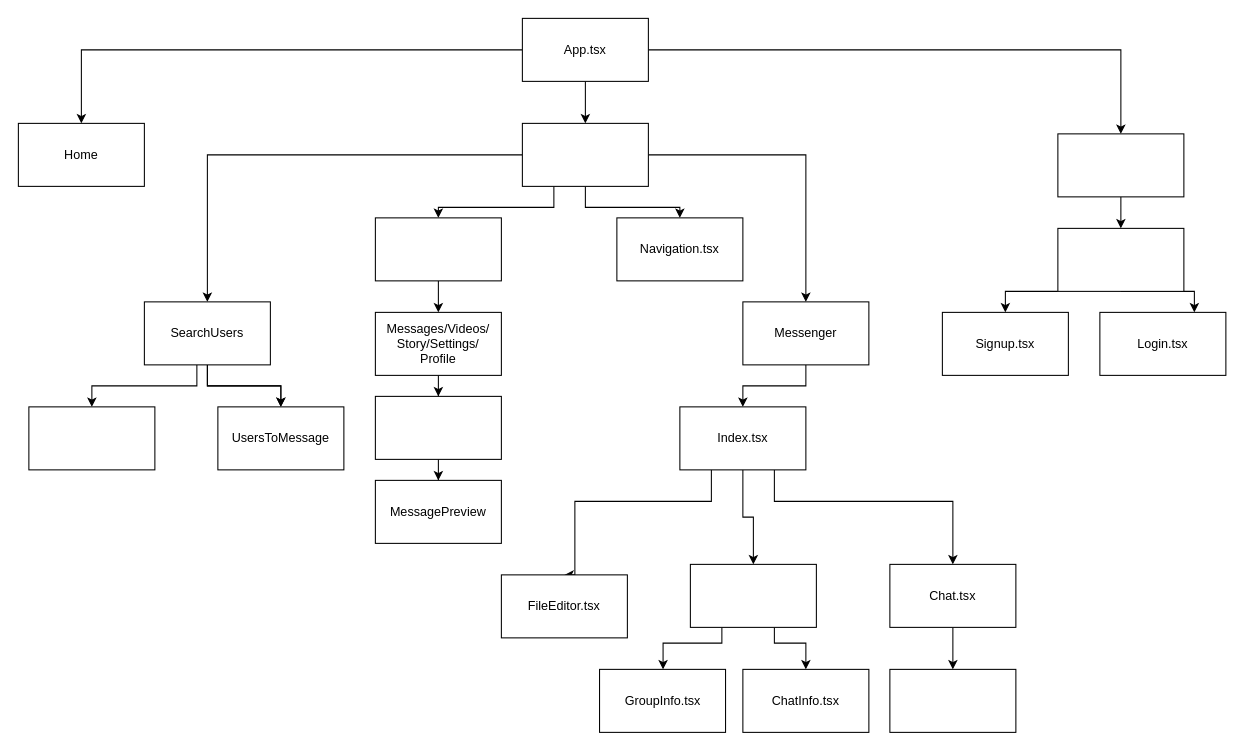
This 1244x751 diagram has some shape labels left out. Here are the shapes that lost their labels. From the top down, the box of each, then its label:
(521, 122, 648, 186): ChatPage.tsx
(1057, 133, 1184, 197): Auth
(374, 217, 501, 281): DynamicList.tsx
(1057, 227, 1184, 291): Form.tsx
(28, 406, 155, 470): UsersToGroup
(374, 395, 501, 459): MessagesList
(689, 563, 816, 627): Info.tsx
(889, 668, 1016, 732): ChatMessages.tsx
